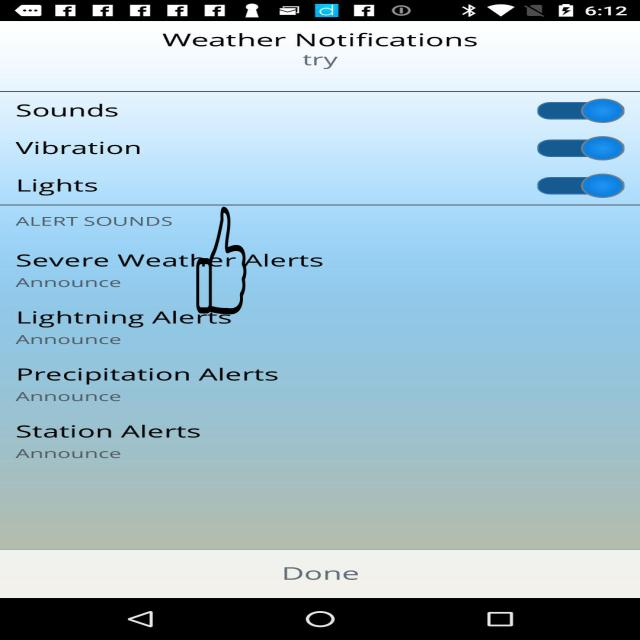privacy zuckering: (196, 207, 247, 314)
